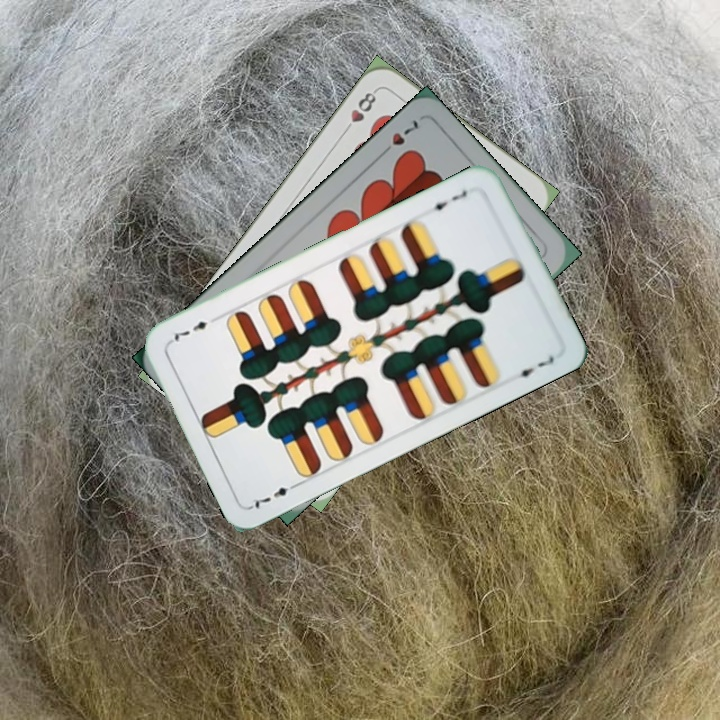E7: (247, 478, 302, 511), (423, 185, 471, 213)
H7: (375, 116, 421, 160)
H8: (339, 85, 380, 136)
